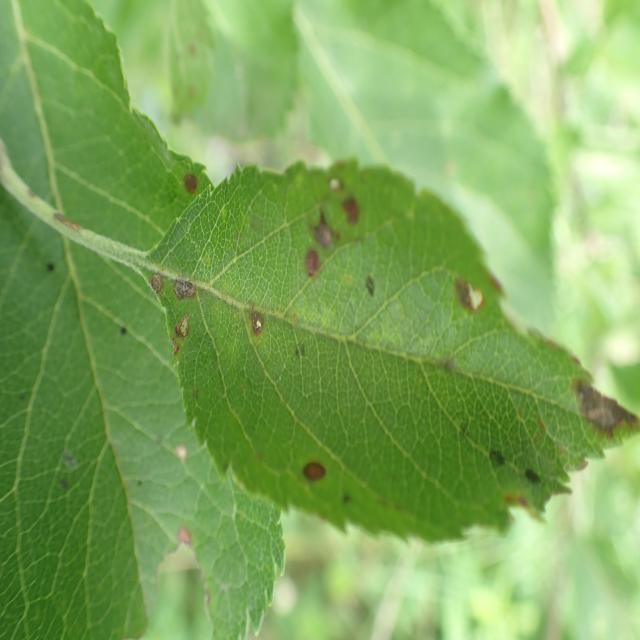Black Rot: (558, 356, 640, 452), (277, 434, 337, 504), (444, 264, 500, 336), (502, 490, 552, 551), (298, 208, 351, 265), (162, 524, 202, 586), (245, 291, 278, 356), (164, 318, 197, 366), (178, 160, 212, 204), (168, 266, 202, 307), (294, 251, 328, 290), (339, 190, 363, 240), (325, 151, 347, 201), (145, 264, 164, 303)
scab: (236, 265, 500, 407)
